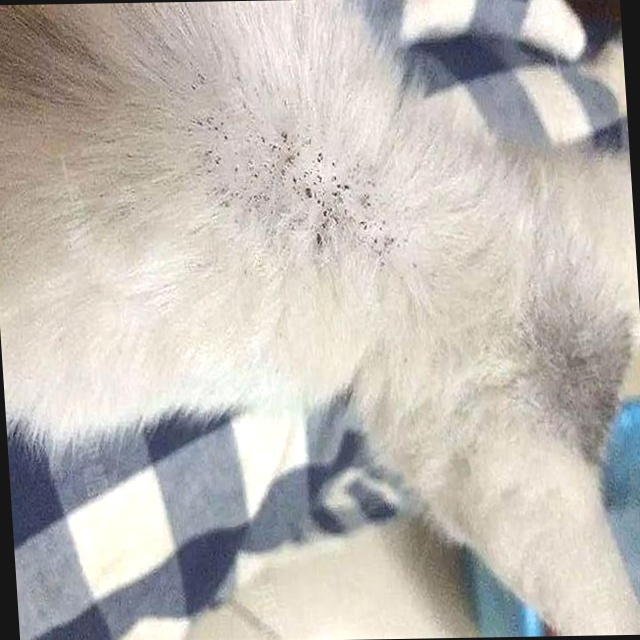acne: (181, 103, 409, 282)
